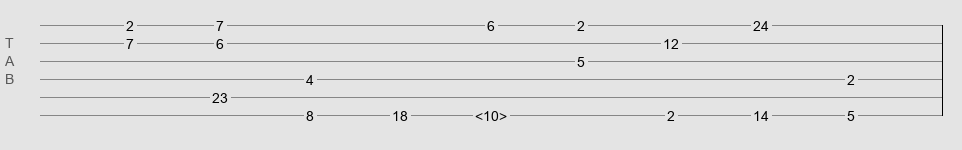12: (663, 36, 679, 46)
14: (753, 108, 769, 118)
18: (392, 108, 408, 118)
2: (126, 18, 134, 28), (577, 18, 585, 28), (667, 108, 675, 118), (847, 72, 855, 82)
23: (212, 90, 228, 100)
24: (753, 18, 769, 28)
4: (306, 72, 314, 82)
5: (577, 54, 585, 64), (847, 108, 855, 118)
6: (216, 36, 224, 46), (487, 18, 495, 28)
7: (126, 36, 134, 46), (216, 18, 224, 28)
8: (306, 108, 314, 118)
harmonic: (475, 108, 507, 118)
